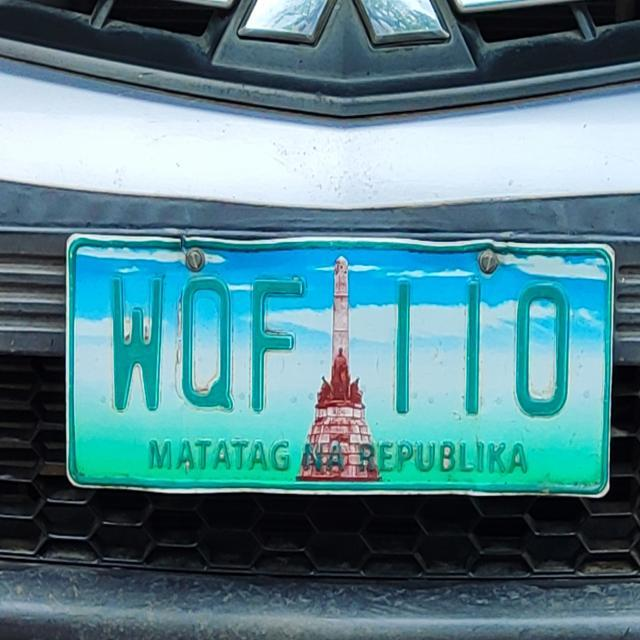LicensePlate: (56, 226, 619, 508)
